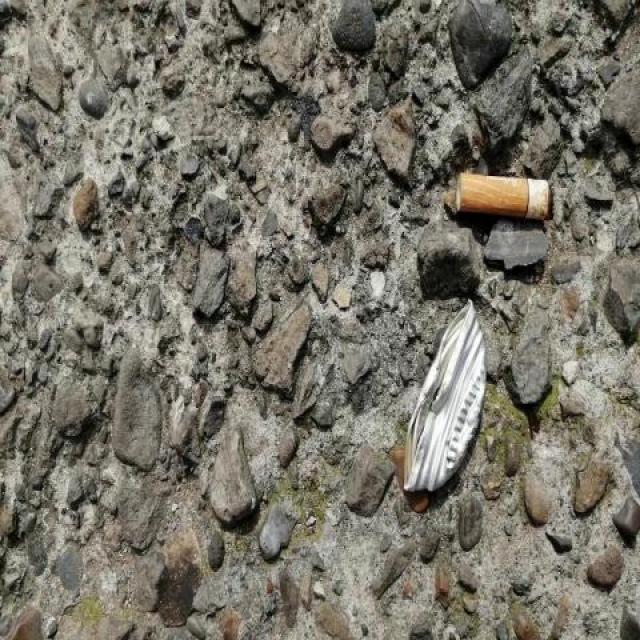non-organic waste: (452, 168, 559, 228)
